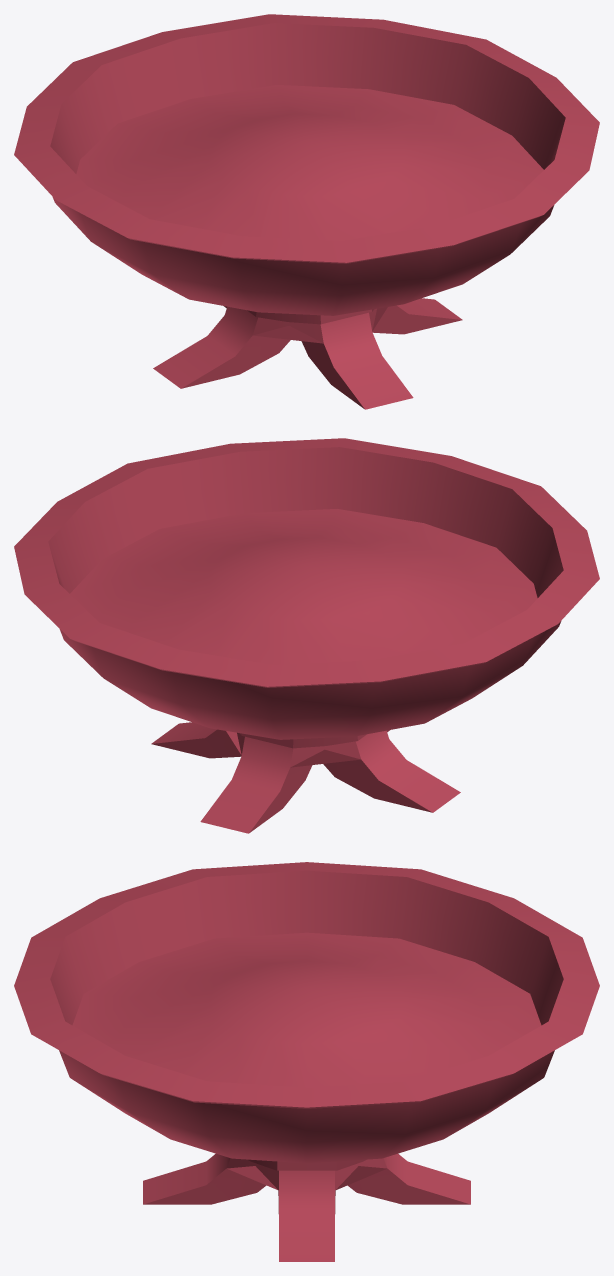
The model's file is brazier.fbx.
3 views of the same model, one above another, from view 1: azimuth 30°, elevation 25°; view 2: azimuth 150°, elevation 25°; view 3: azimuth 270°, elevation 25° (orthographic).
Visible parts, largest first — view 1: polySurface4899; view 2: polySurface4899; view 3: polySurface4899.
Part boxes in pixels (x1=…): polySurface4899: x1=14, y1=14, x2=599, y2=409; polySurface4899: x1=14, y1=438, x2=599, y2=833; polySurface4899: x1=14, y1=862, x2=599, y2=1261.
Size of the model in its own units: 1 by 0.4052 by 1.01.
